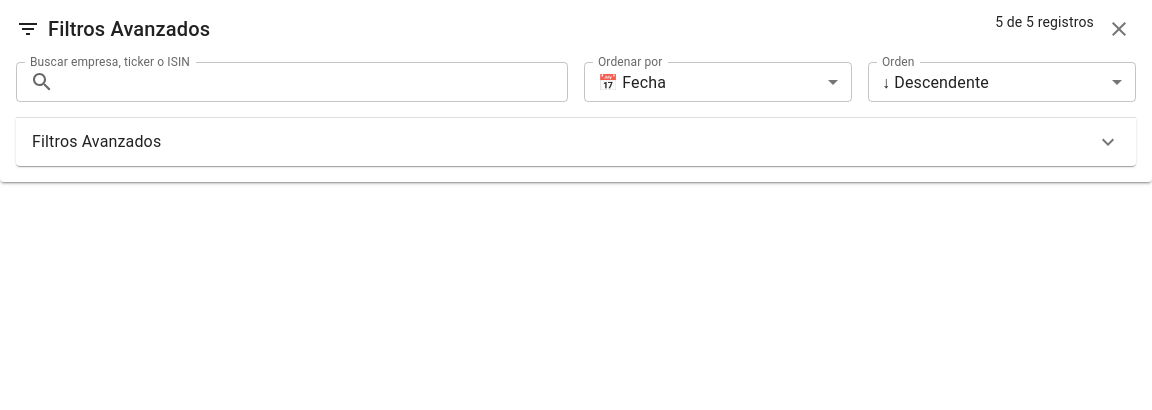
Test: AdvancedFilters › disables the slider when every amount is the same
The image size is (1152, 410).
Click the button "Filtros Avanzados".
click(97, 142)  # box [16,118,1136,166]
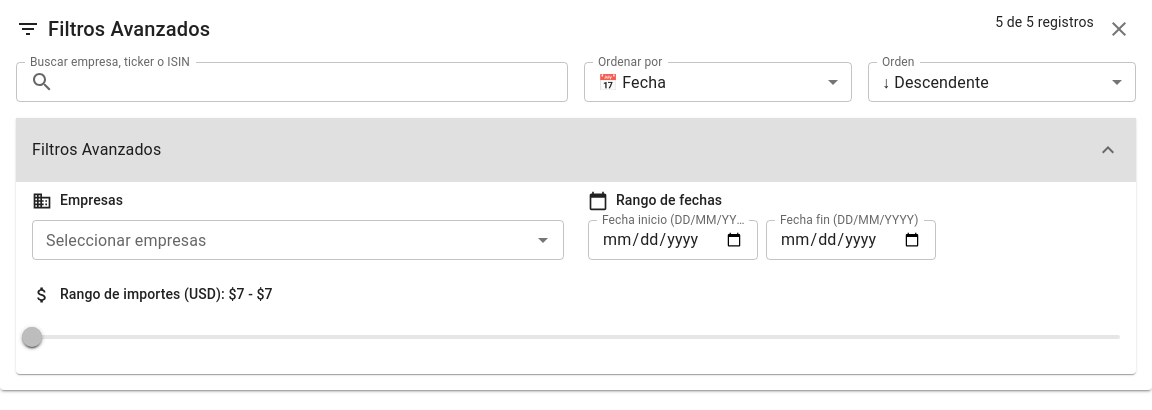
Result: the 1st slider is disabled at [22,327,42,347]
